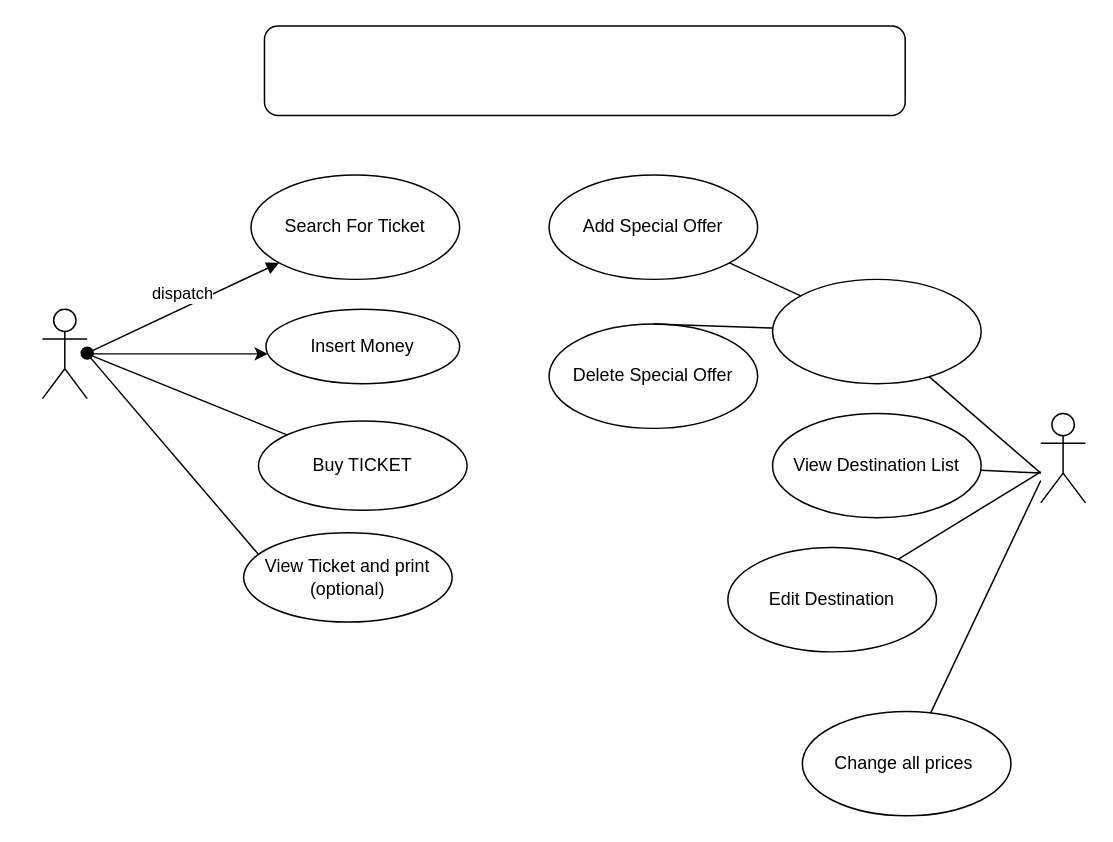
Some shapes in this 1113 by 842 pixel diagram are drawn without their labels. Each missing label, with the centre of its shape:
Admin: [1062,457]
Customer: [64,353]
login: [876,331]
Train Ticket App: [584,70]
